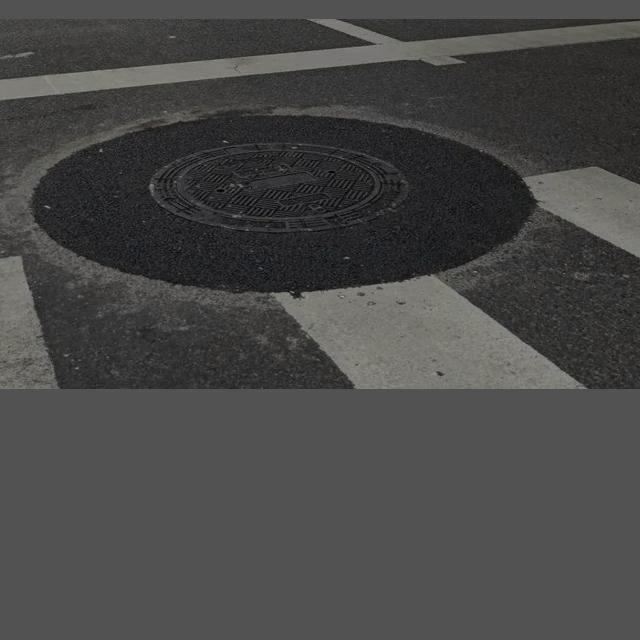good: (0, 94, 539, 306)
